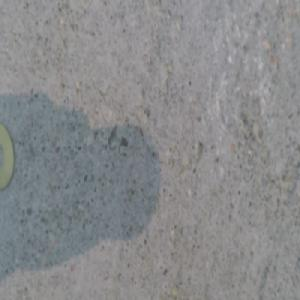Washer: (0, 124, 18, 189)
